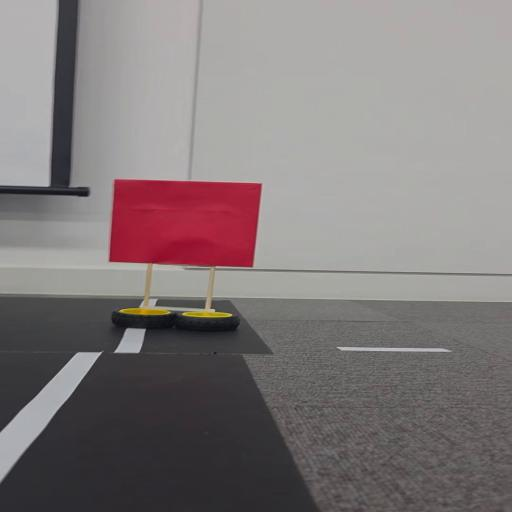Sign_A: (94, 174, 272, 330)
